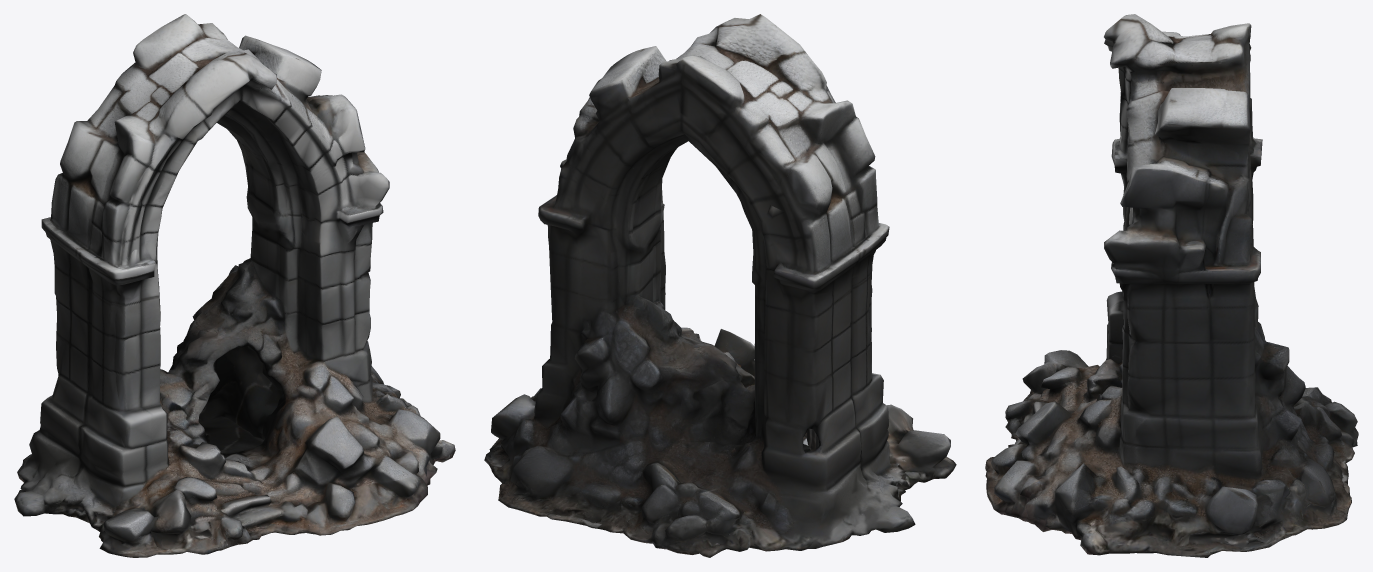
The model's file is collapsed_archway.glb.
3 renders of one model, left to right at view 1: azimuth 30°, elevation 25°; view 2: azimuth 150°, elevation 25°; view 3: azimuth 270°, elevation 25°, orthographic. The views are drawn at different scales.
Size of the model in its own units: 1.88 by 2 by 1.54.
1 material, 1 textured.
